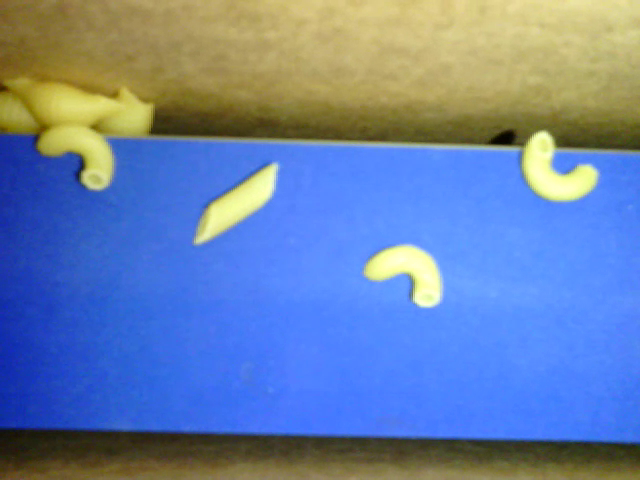elbow: (519, 127, 599, 201), (36, 121, 118, 193), (362, 243, 442, 311)
penne: (196, 159, 278, 243)
shell: (13, 79, 126, 131), (99, 83, 157, 138), (1, 90, 48, 136)
